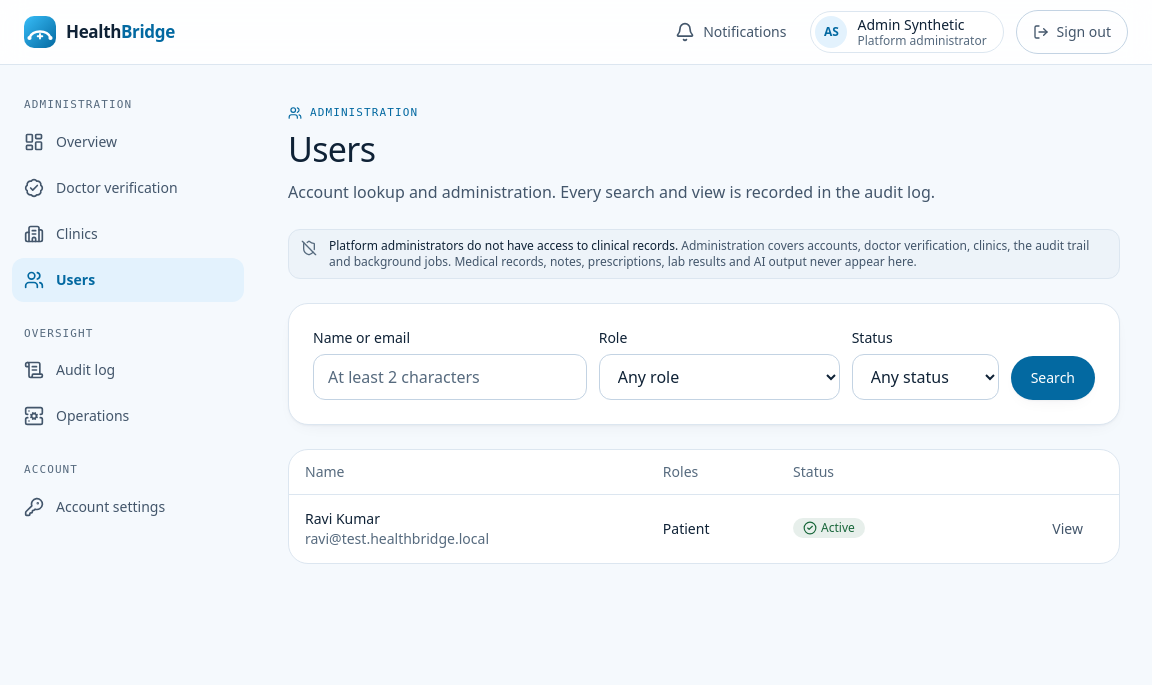
Test case: user administration › platform admin disables an account with a reason code and grants a role
Click the button "View": (1068, 529) [1032, 507, 1103, 551]
(page scrolled)
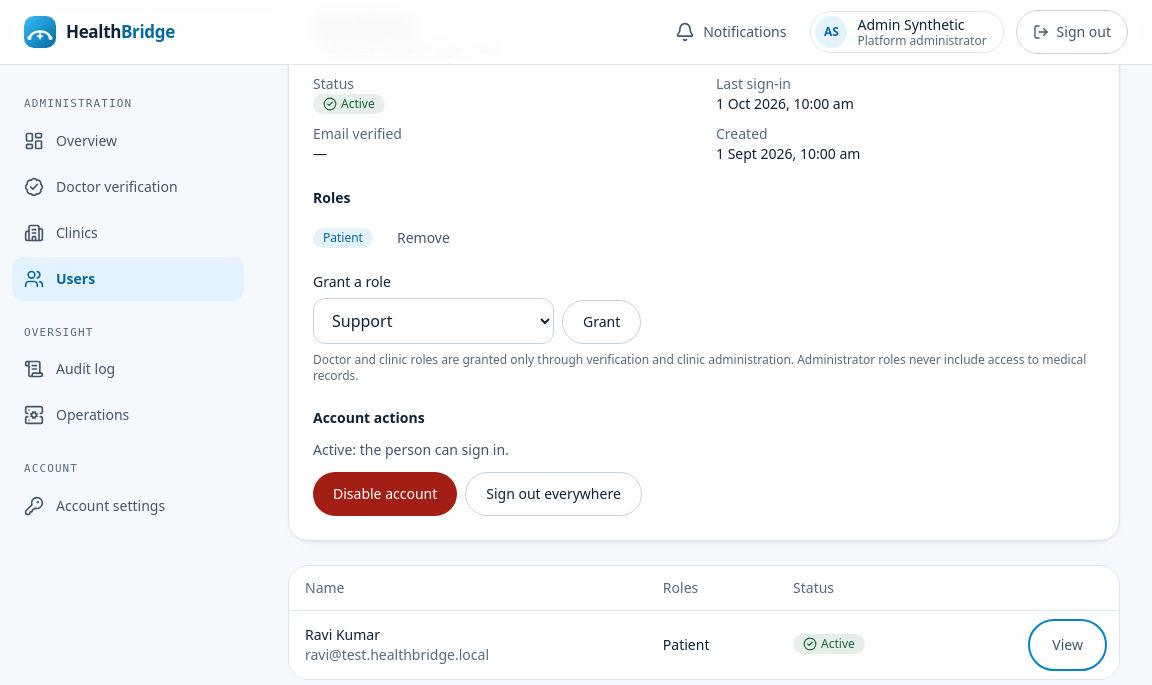
# Disabling requires a reason and a confirmation.
Click the button "Disable account": (385, 494) [313, 472, 457, 516]
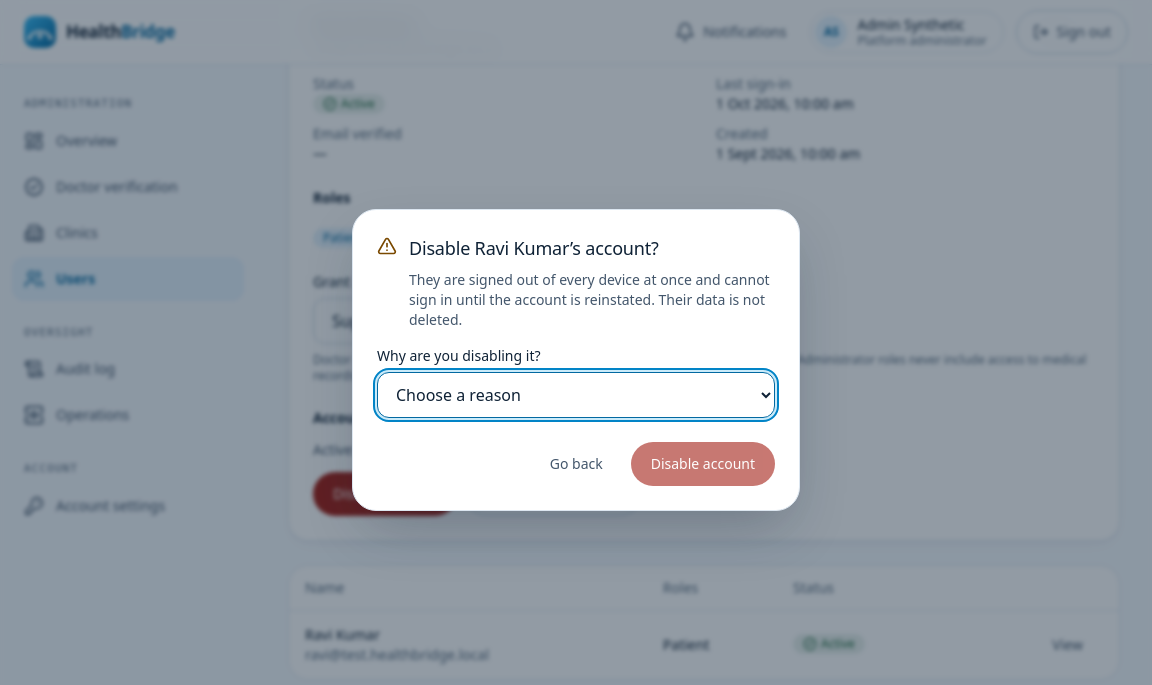
Check: the button "Disable account" is disabled, box [631, 442, 775, 486]
Select "Policy violation" in the dropdown labelled "Why are you disabling it?": (576, 395) [377, 372, 775, 418]
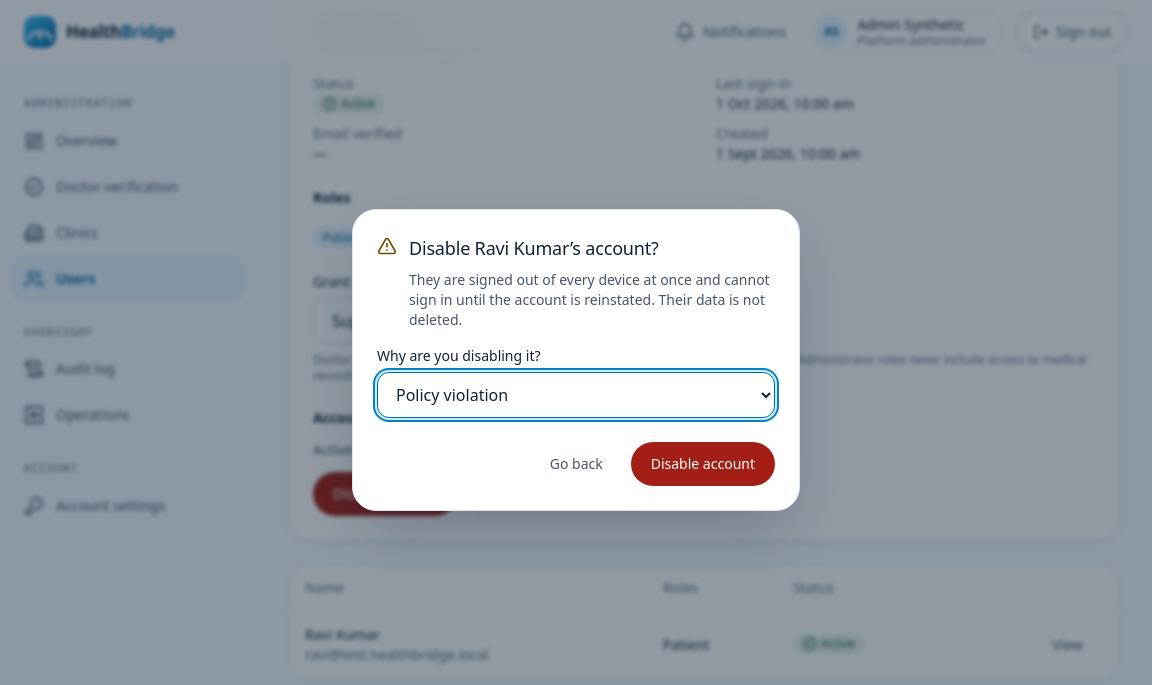
Click the button "Disable account": (703, 464) [631, 442, 775, 486]
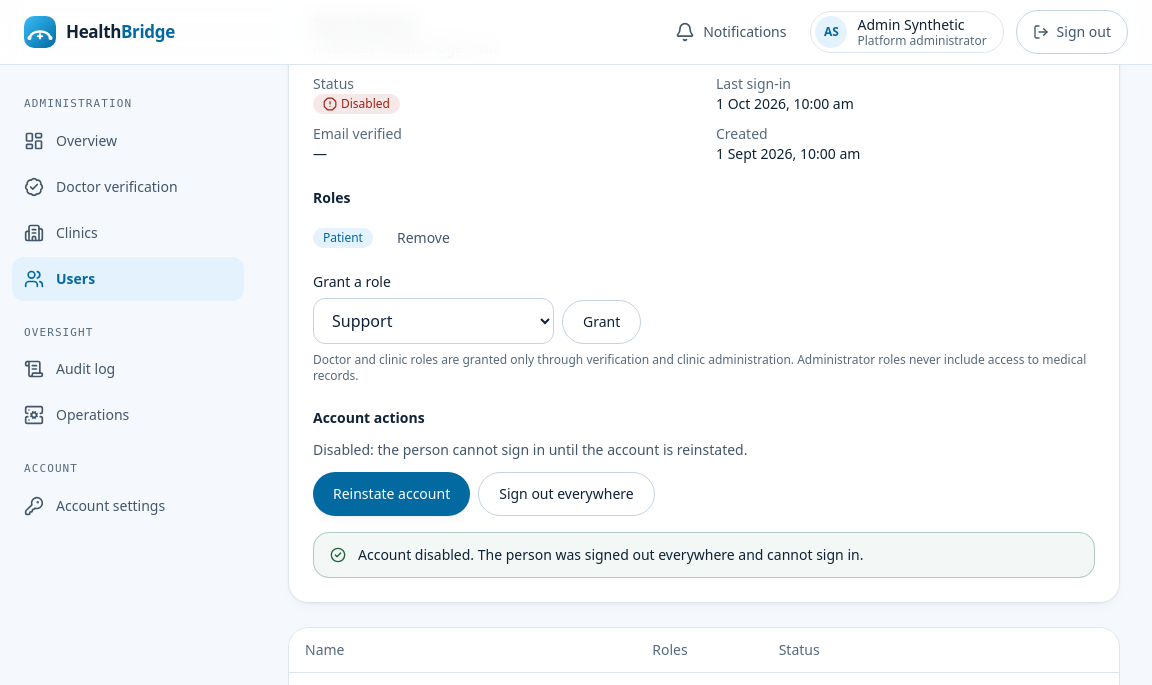
Check: the text "Account disabled." is shown, box [358, 545, 863, 564]
Check: the button "Reinstate account" is shown, box [313, 472, 470, 516]
Select "Support" in the dropdown labelled "Grant a role": (434, 321) [313, 298, 554, 344]
Click the button "Grant": (602, 322) [562, 300, 641, 344]
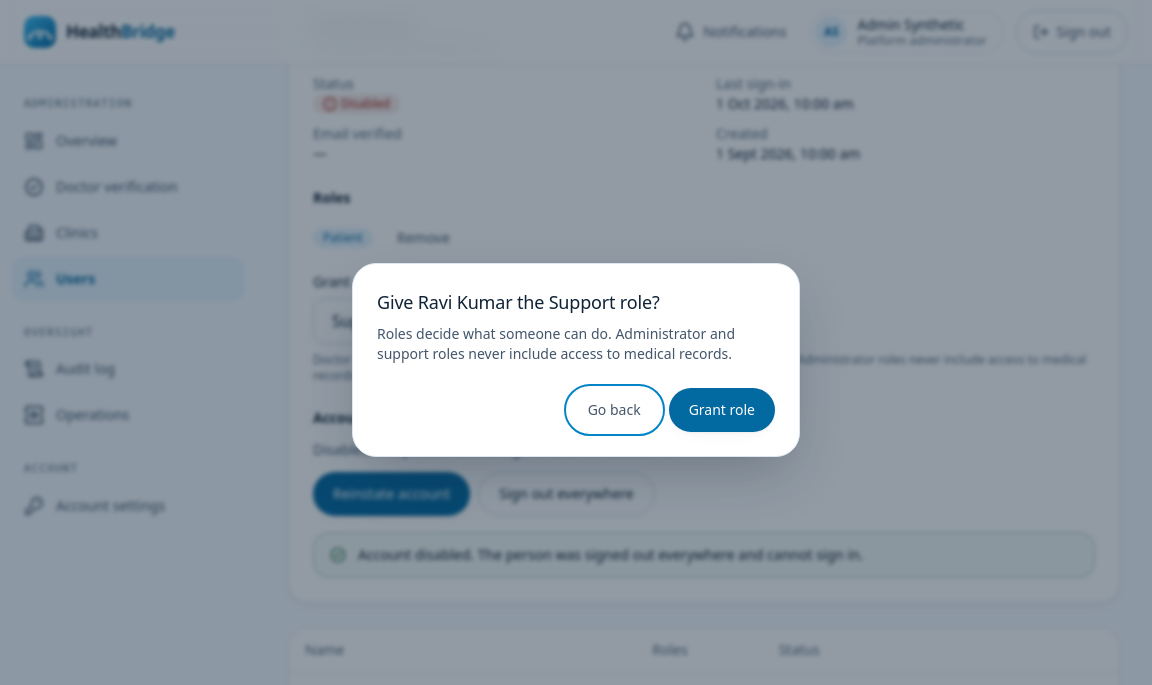
Click the button "Grant role": (722, 410) [669, 388, 775, 432]
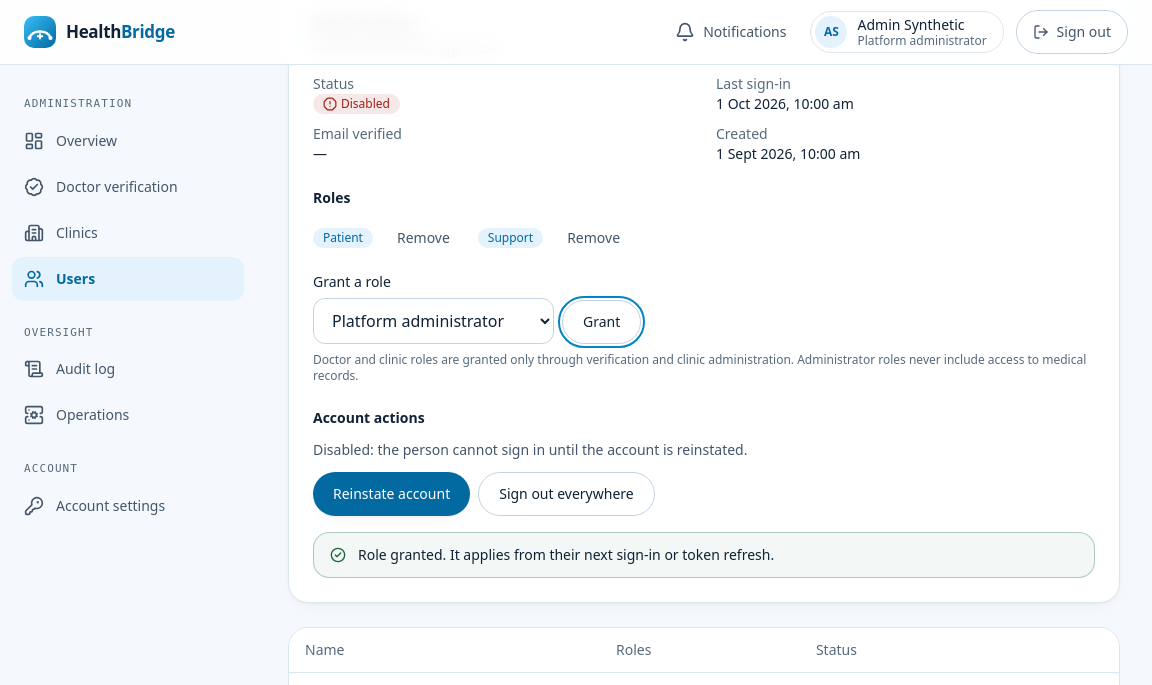
Check: the text "Role granted." is shown, box [358, 545, 774, 564]
